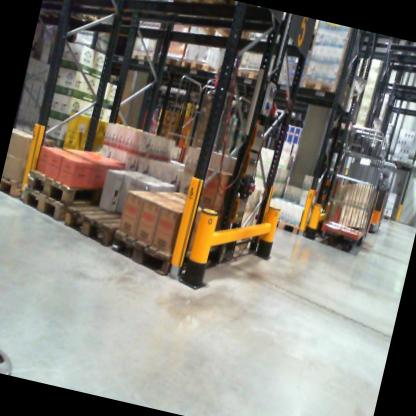pallet: (104, 215, 224, 295), (17, 170, 112, 232), (22, 158, 110, 216), (60, 193, 139, 255), (178, 5, 253, 53), (295, 73, 362, 123), (142, 0, 244, 24), (232, 61, 276, 88), (181, 57, 225, 82), (0, 172, 31, 203), (152, 45, 183, 74), (41, 0, 75, 21), (130, 46, 157, 66)
pallet_truck: (352, 153, 406, 245)
